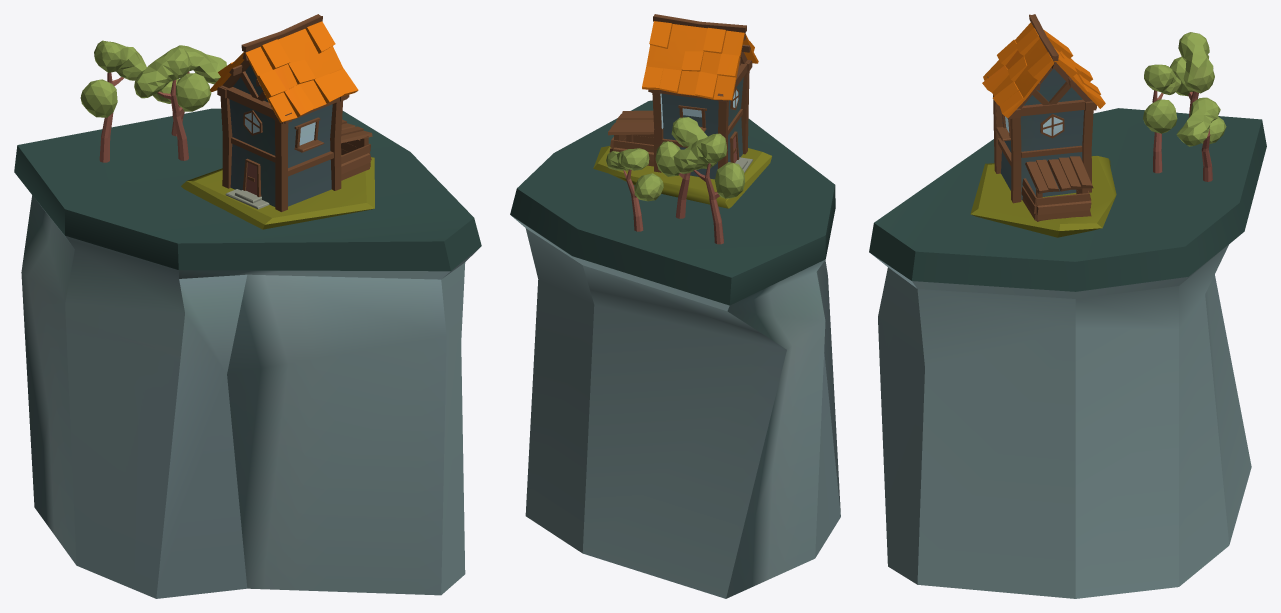
The model's file is terrazza tetto giallo.fbx.
3 renders of one model, left to right at view 1: azimuth 30°, elevation 25°; view 2: azimuth 150°, elevation 25°; view 3: azimuth 270°, elevation 25°, orthographic. The views are drawn at different scales.
Parts seen in each view (by area): view 1: terrazza, casa; view 2: terrazza, casa; view 3: terrazza, casa.
Boxes of the visible parts, <box> form: terrazza: <box>14,108,481,598</box>; casa: <box>80,14,374,229</box>; terrazza: <box>510,100,840,598</box>; casa: <box>593,14,771,244</box>; terrazza: <box>869,108,1266,598</box>; casa: <box>970,14,1226,237</box>.
Size of the model in its own units: 1484 by 2254 by 1639.
1 material, 1 textured.
